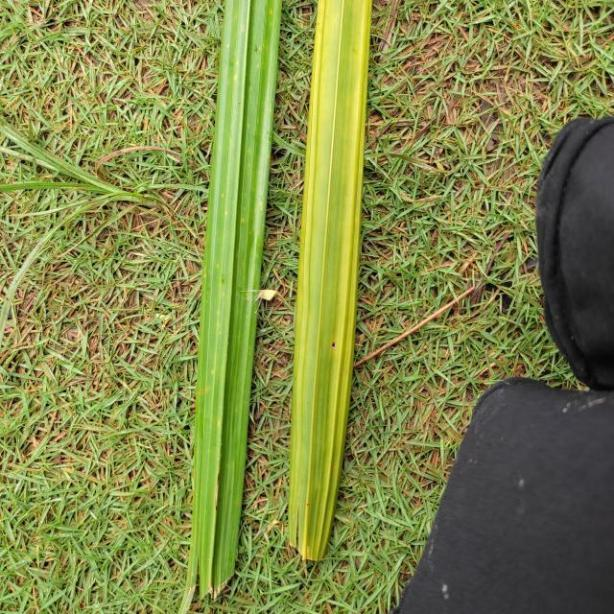nitrogen: (188, 0, 278, 612), (288, 0, 371, 569)
